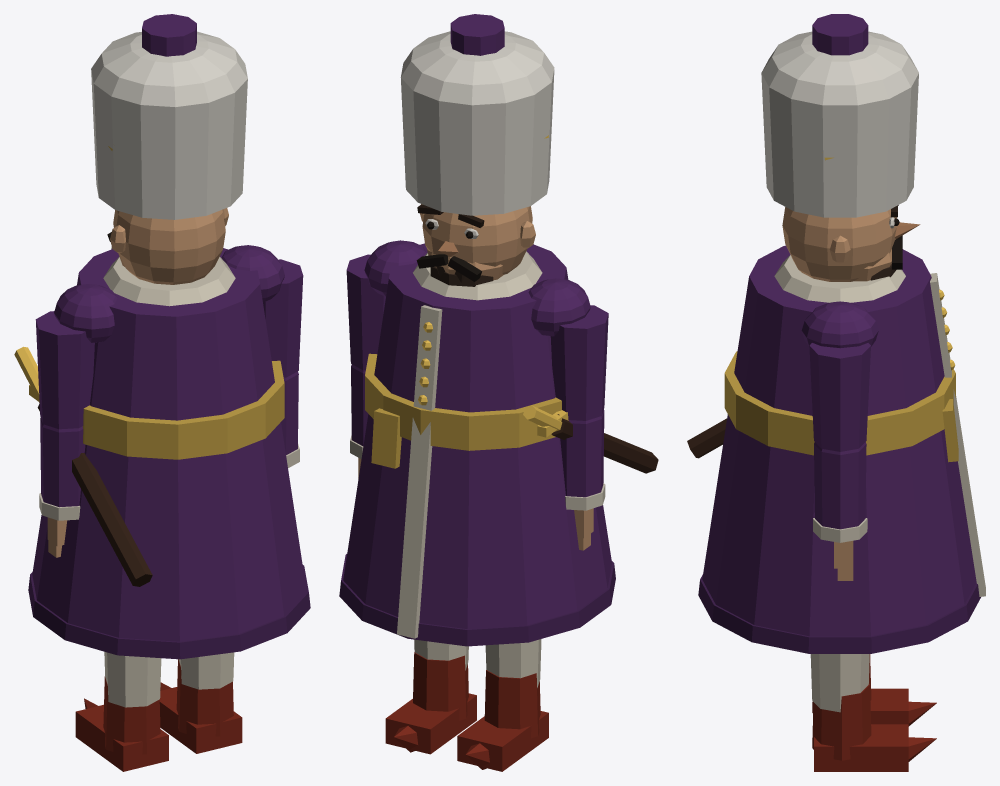
The model's file is musahip.glb.
The picture shows the model from 3 angles, left to right: view 1: azimuth 30°, elevation 25°; view 2: azimuth 150°, elevation 25°; view 3: azimuth 270°, elevation 25°; orthographic projection. The views are drawn at different scales.
Parts seen in each view (by area): view 1: govde, bas, kolL, bacakL, bacakR, kolR; view 2: govde, bas, kolL, bacakL, bacakR, kolR; view 3: govde, bas, kolR, bacakR, bacakL.
Part boxes in pixels (x1,y1,x2,y2): govde: (14,245,310,659); bas: (91,14,247,284); kolL: (35,311,94,557); bacakL: (75,651,168,771); bacakR: (159,652,242,753); kolR: (263,259,303,468); govde: (339,240,658,646); bas: (400,14,554,286); kolL: (550,305,608,550); bacakL: (457,639,548,771); bacakR: (385,639,476,754); kolR: (346,254,385,478); govde: (687,245,985,653); bas: (761,14,920,281); kolR: (809,343,870,580); bacakR: (810,654,936,771); bacakL: (812,654,936,726).
Size of the model in its own units: 0.856 by 2.28 by 0.8527.
